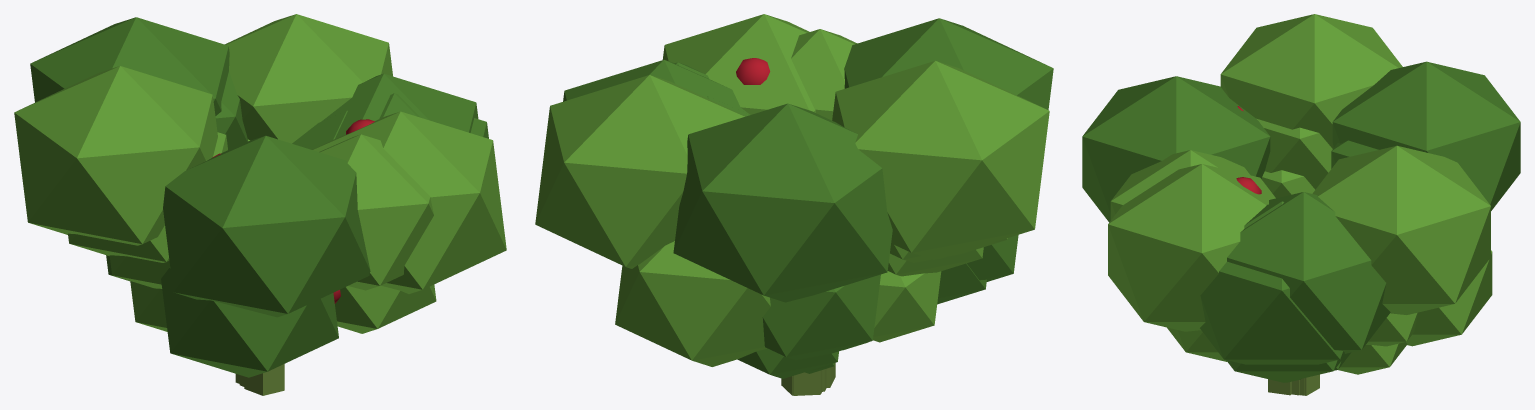
Rendered from Crop_Fruit_Cranberry.fbx.
3 renders of one model, left to right at view 1: azimuth 30°, elevation 25°; view 2: azimuth 150°, elevation 25°; view 3: azimuth 270°, elevation 25°, orthographic. The views are drawn at different scales.
Visible parts, largest first — view 1: Crop_Fruit_Cranberry__S4, Crop_Fruit_Cranberry__S3, Crop_Fruit_Cranberry__S5, Crop_Fruit_Cranberry__S2, Crop_Fruit_Cranberry__S1; view 2: Crop_Fruit_Cranberry__S4, Crop_Fruit_Cranberry__S3, Crop_Fruit_Cranberry__S5, Crop_Fruit_Cranberry__S2; view 3: Crop_Fruit_Cranberry__S4, Crop_Fruit_Cranberry__S3, Crop_Fruit_Cranberry__S5, Crop_Fruit_Cranberry__S2.
Part boxes in pixels (box(x1,y1,x2,y2)): Crop_Fruit_Cranberry__S4: box(14, 14, 506, 383); Crop_Fruit_Cranberry__S3: box(68, 71, 433, 377); Crop_Fruit_Cranberry__S5: box(106, 110, 436, 386); Crop_Fruit_Cranberry__S2: box(130, 281, 167, 331); Crop_Fruit_Cranberry__S1: box(244, 364, 284, 395); Crop_Fruit_Cranberry__S4: box(535, 14, 1053, 395); Crop_Fruit_Cranberry__S3: box(615, 29, 1018, 366); Crop_Fruit_Cranberry__S5: box(707, 96, 986, 391); Crop_Fruit_Cranberry__S2: box(737, 271, 941, 395); Crop_Fruit_Cranberry__S4: box(1082, 14, 1520, 364); Crop_Fruit_Cranberry__S3: box(1110, 118, 1492, 395); Crop_Fruit_Cranberry__S5: box(1167, 170, 1417, 395); Crop_Fruit_Cranberry__S2: box(1304, 342, 1407, 395).
Size of the model in its own units: 0.1199 by 0.0881 by 0.111.
